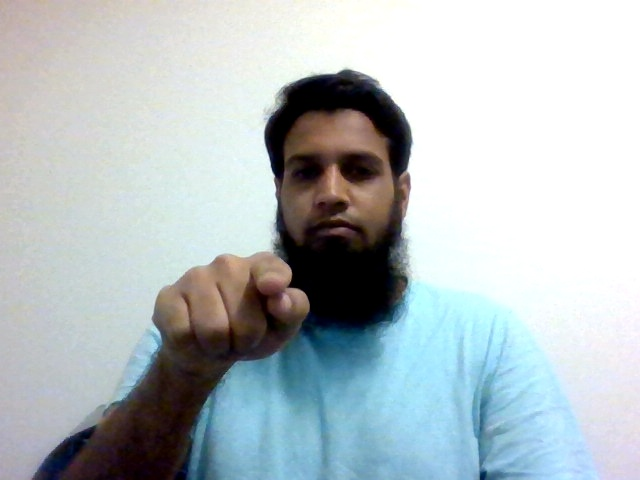you: (148, 246, 312, 377)
